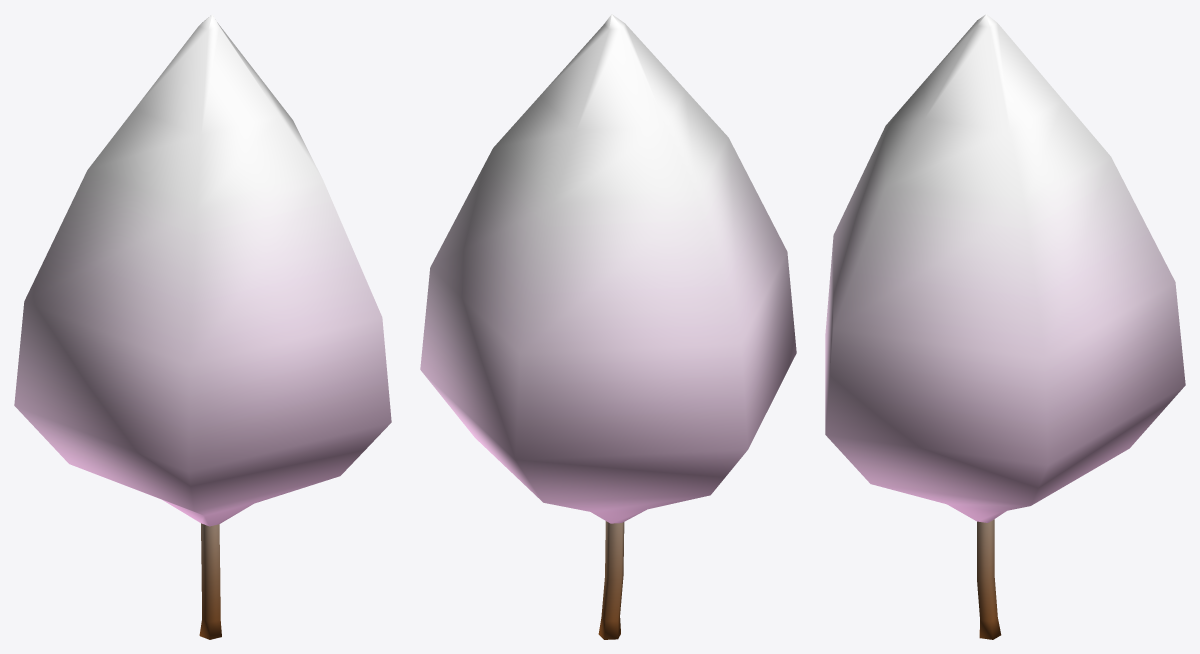
The model's file is BeadfordPearTree.fbx.
3 renders of one model, left to right at view 1: azimuth 30°, elevation 25°; view 2: azimuth 150°, elevation 25°; view 3: azimuth 270°, elevation 25°, orthographic.
Visible parts, largest first — view 1: BradfordPearTree; view 2: BradfordPearTree; view 3: BradfordPearTree.
Part boxes in pixels (bbox=[...]): BradfordPearTree: bbox=[14, 14, 391, 639]; BradfordPearTree: bbox=[420, 14, 796, 639]; BradfordPearTree: bbox=[825, 14, 1185, 639].
Bounding box in the file's own units: 244 × 441 × 232.
